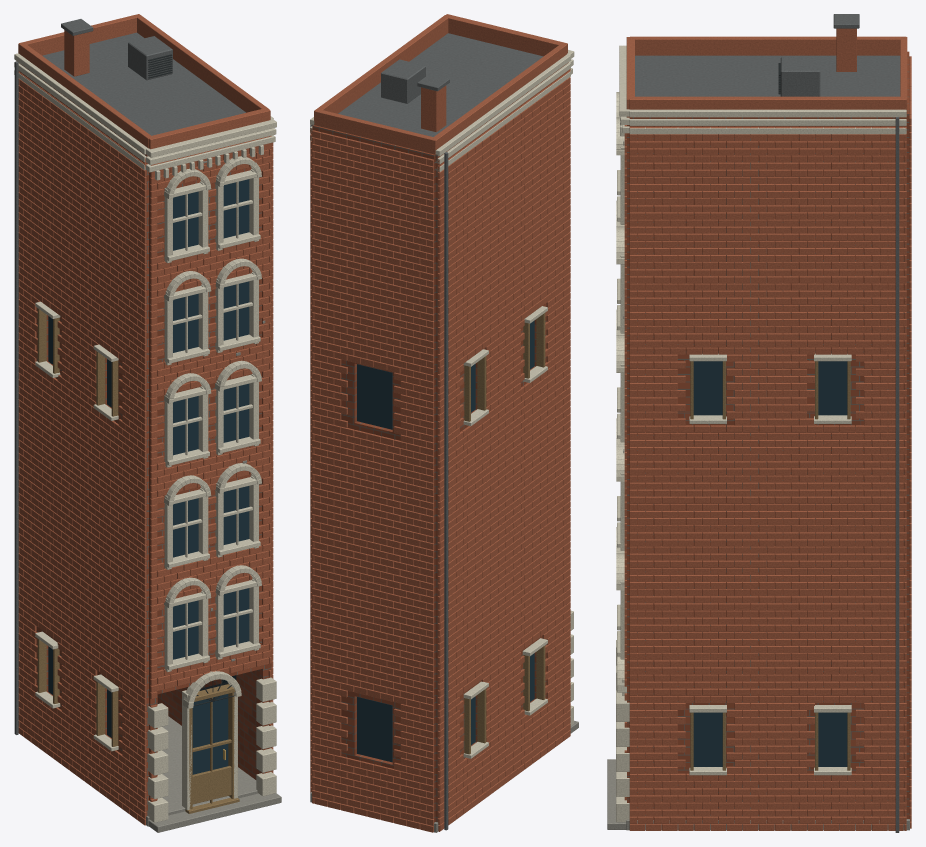
File: OFFC2_lod0.glb
The picture shows the model from 3 angles, left to right: view 1: azimuth 30°, elevation 25°; view 2: azimuth 150°, elevation 25°; view 3: azimuth 270°, elevation 25°; orthographic projection. The views are drawn at different scales.
Parts seen in each view (by area): view 1: OFFC2_LOD0; view 2: OFFC2_LOD0; view 3: OFFC2_LOD0.
Part boxes in pixels (bbox=[...]): OFFC2_LOD0: bbox=[14, 14, 281, 832]; OFFC2_LOD0: bbox=[310, 14, 578, 832]; OFFC2_LOD0: bbox=[607, 14, 911, 832].
Size of the model in its own units: 3.71 by 18.25 by 6.6.
Materials: 12 (9 with a texture image).
